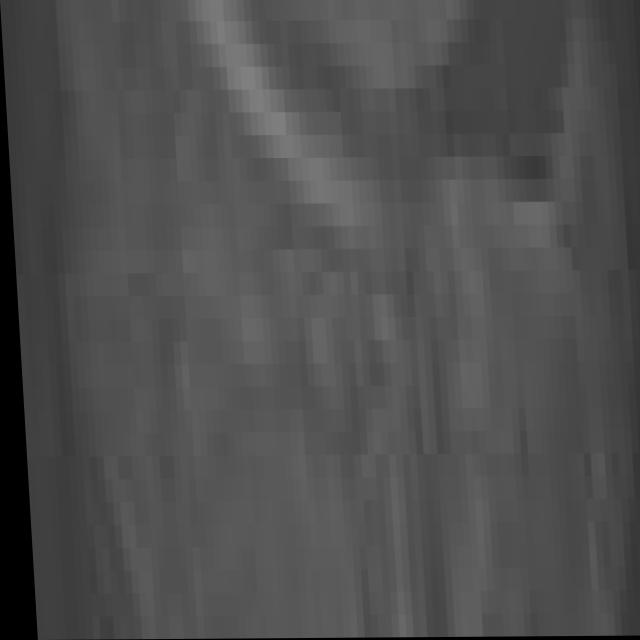fracture: (10, 0, 640, 637)
